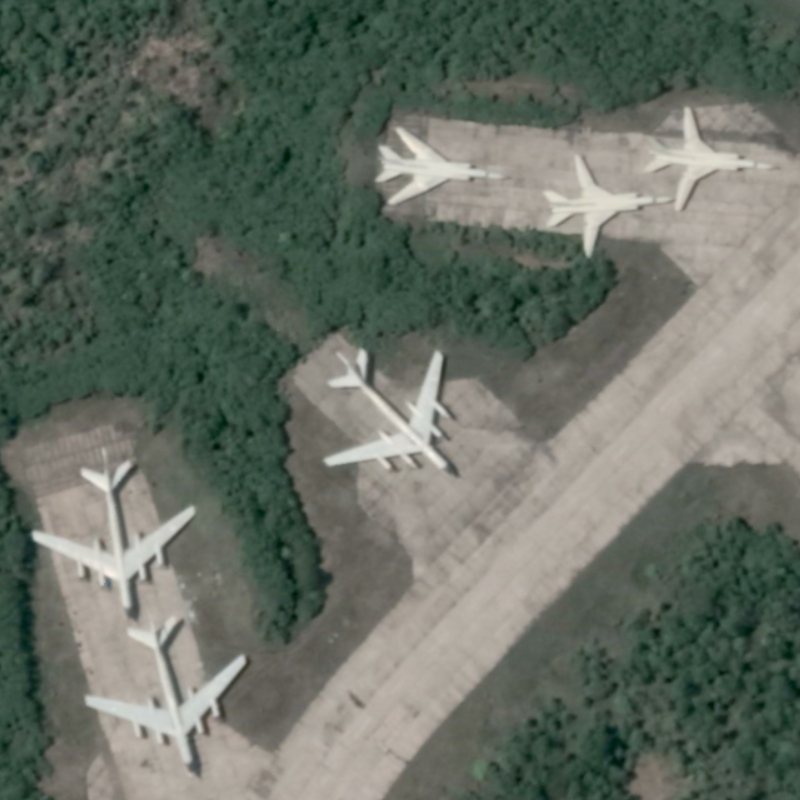A12: (639, 103, 781, 215), (539, 151, 681, 262), (370, 122, 511, 208)
A17: (25, 444, 200, 622), (82, 614, 249, 777), (320, 344, 459, 478)
